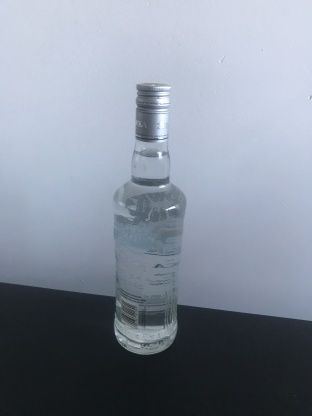nakretka: (134, 81, 172, 143)
